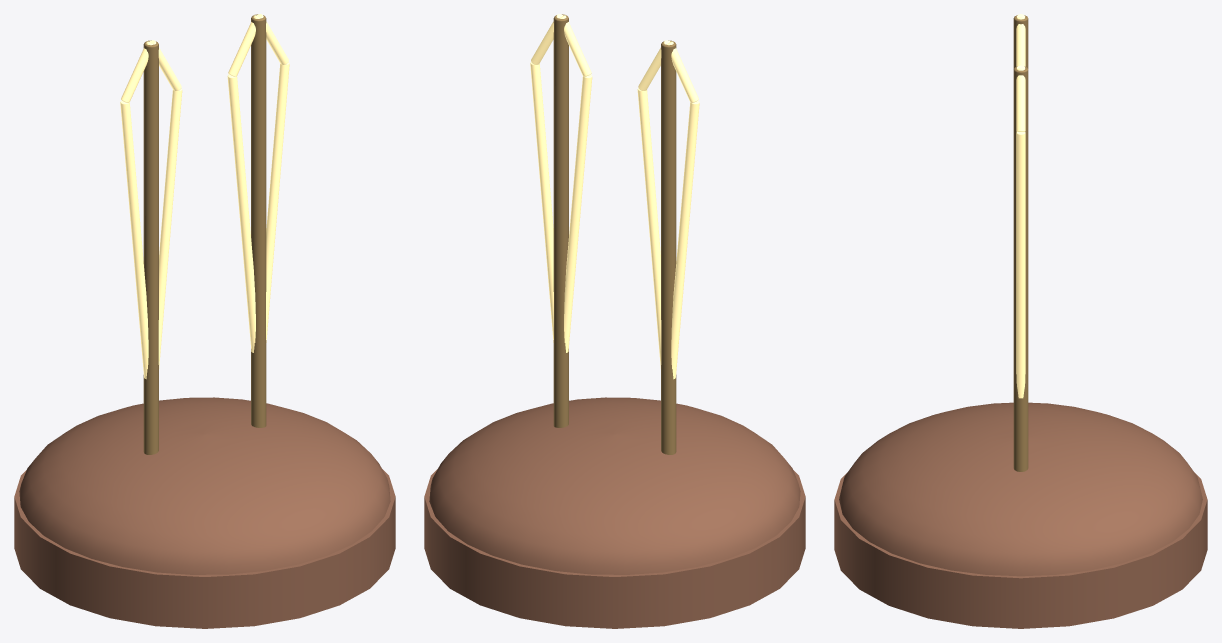
The picture shows the model from 3 angles, left to right: view 1: azimuth 30°, elevation 25°; view 2: azimuth 150°, elevation 25°; view 3: azimuth 270°, elevation 25°; orthographic projection. The views are drawn at different scales.
Parts seen in each view (by area): view 1: Shield generator low housing, Foundation drum, Shield emitter stem.001, Shield emitter stem, Shield emitter cage, Shield emitter cage.002, Shield emitter cage.001, Shield emitter cage.003, Shield cage crown.002, Shield cage crown; view 2: Shield generator low housing, Foundation drum, Shield emitter stem.001, Shield emitter stem, Shield emitter cage, Shield emitter cage.002, Shield emitter cage.001, Shield emitter cage.003, Shield cage crown.002, Shield cage crown; view 3: Shield generator low housing, Foundation drum, Shield emitter stem.001, Shield emitter cage.003, Shield cage crown.003.
Boxes of the visible parts, x1=… form: Shield generator low housing: x1=19, y1=397, x2=390, y2=574; Foundation drum: x1=14, y1=469, x2=395, y2=628; Shield emitter stem.001: x1=251, y1=14, x2=266, y2=427; Shield emitter stem: x1=143, y1=40, x2=158, y2=454; Shield emitter cage: x1=120, y1=100, x2=148, y2=379; Shield emitter cage.002: x1=227, y1=74, x2=255, y2=352; Shield emitter cage.001: x1=158, y1=88, x2=182, y2=368; Shield emitter cage.003: x1=266, y1=62, x2=289, y2=342; Shield cage crown.002: x1=228, y1=15, x2=260, y2=76; Shield cage crown: x1=121, y1=41, x2=152, y2=102; Shield generator low housing: x1=429, y1=397, x2=800, y2=574; Foundation drum: x1=424, y1=469, x2=805, y2=628; Shield emitter stem.001: x1=553, y1=14, x2=568, y2=427; Shield emitter stem: x1=661, y1=40, x2=676, y2=454; Shield emitter cage: x1=671, y1=100, x2=699, y2=379; Shield emitter cage.002: x1=564, y1=74, x2=592, y2=352; Shield emitter cage.001: x1=637, y1=88, x2=661, y2=368; Shield emitter cage.003: x1=530, y1=62, x2=553, y2=342; Shield cage crown.002: x1=559, y1=15, x2=591, y2=76; Shield cage crown: x1=667, y1=41, x2=698, y2=102; Shield generator low housing: x1=839, y1=402, x2=1202, y2=576; Foundation drum: x1=834, y1=472, x2=1207, y2=628; Shield emitter stem.001: x1=1013, y1=66, x2=1028, y2=471; Shield emitter cage.003: x1=1016, y1=132, x2=1025, y2=398; Shield cage crown.003: x1=1016, y1=68, x2=1025, y2=131.
Bounding box in the file's own units: 2 × 3.01 × 2.
